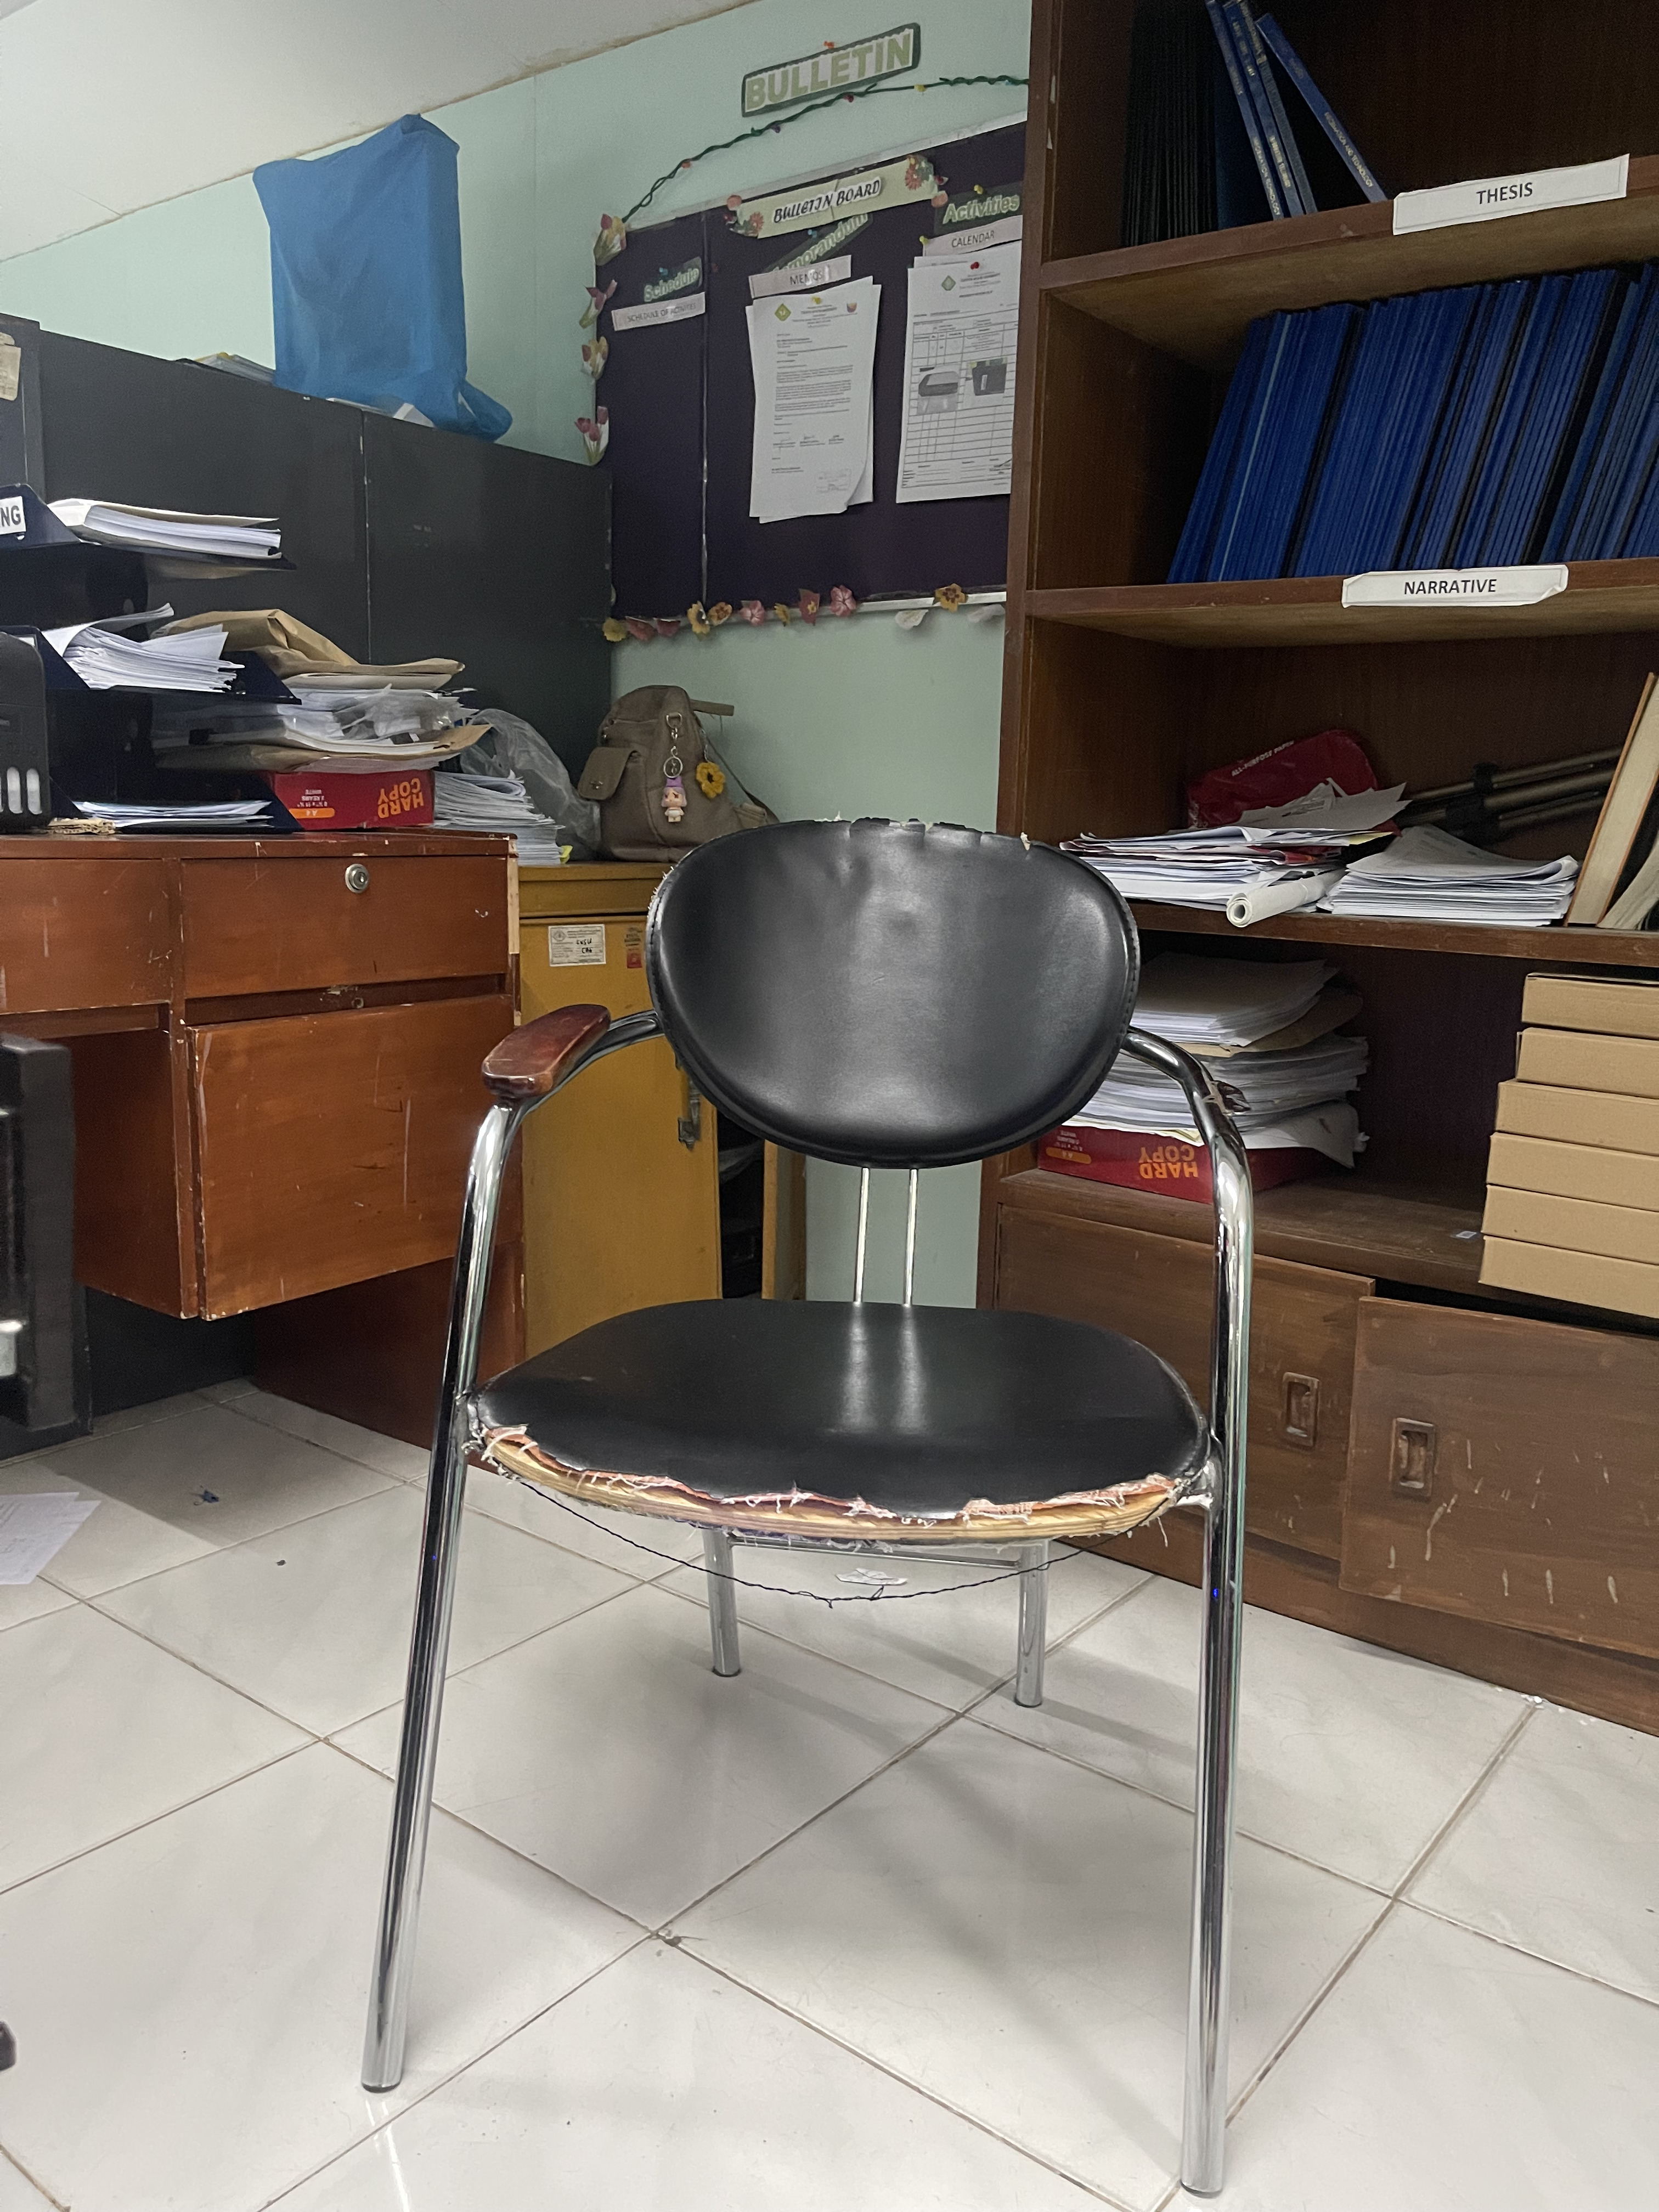chair1: (357, 810, 1263, 2205)
